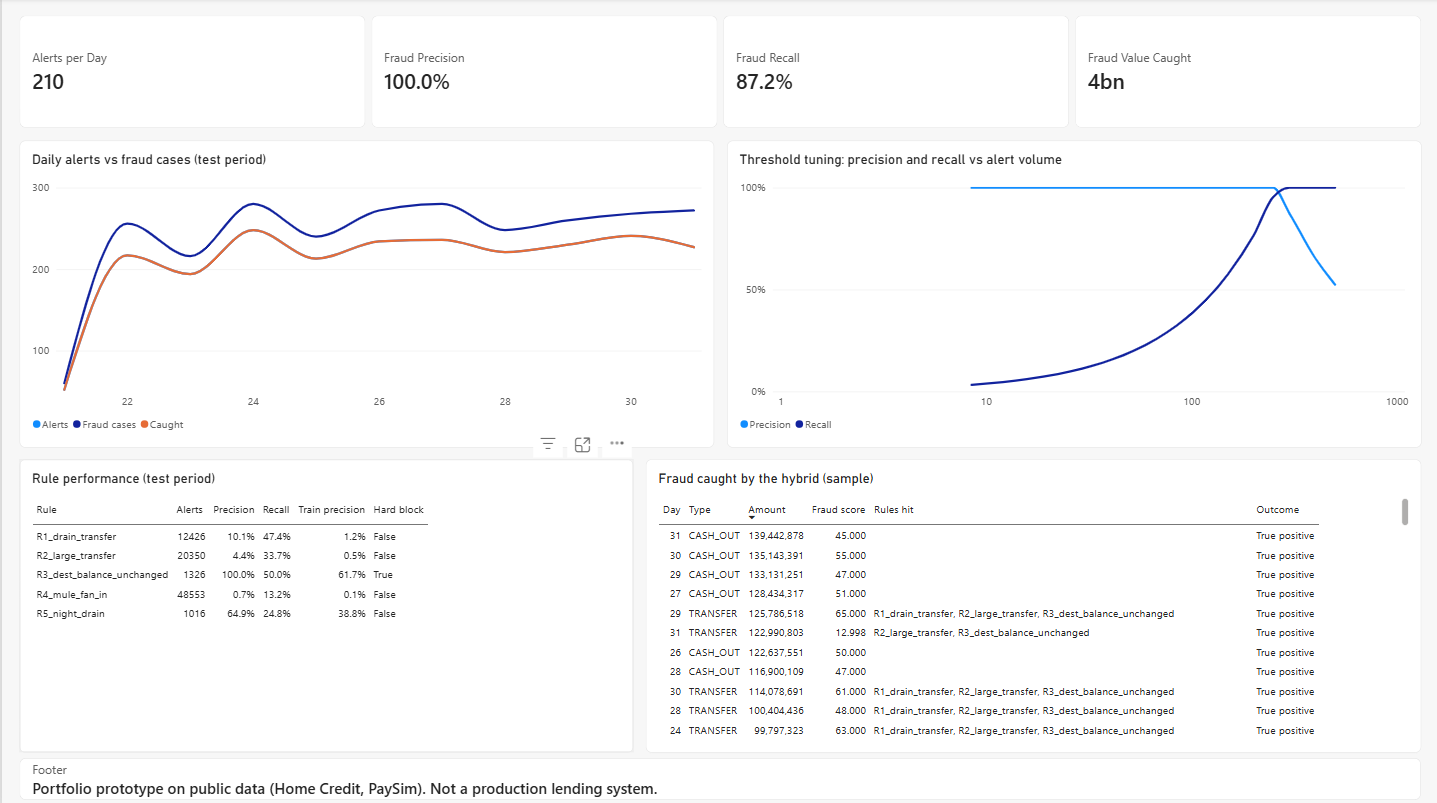

Layout of this report page (visuals, bound fields, positions):
{"tool":"powerbi","page":{"name":"Fraud operations","canvas":[1920,1080],"ordinal":4},"visuals":[{"type":"cardVisual","fields":{"Data":["_Measures.Alerts per Day","_Measures.Fraud Precision","_Measures.Fraud Recall","_Measures.Fraud Value Caught"]},"box":[24,24,1872,150],"z":0},{"type":"lineChart","title":"Daily alerts vs fraud cases (test period)","fields":{"Category":["fraud_daily.day"],"Y":["Sum(fraud_daily.alerts)","Sum(fraud_daily.fraud_cases)","Sum(fraud_daily.caught)"]},"box":[24,190,928,410],"z":1},{"type":"lineChart","title":"Threshold tuning: precision and recall vs alert volume","fields":{"Category":["fraud_thresholds.alerts_per_day"],"Y":["Sum(fraud_thresholds.precision)","Sum(fraud_thresholds.recall)"]},"box":[968,190,928,410],"z":2},{"type":"tableEx","title":"Rule performance (test period)","fields":{"Values":["fraud_rules.rule","Sum(fraud_rules.alerts)","Sum(fraud_rules.precision)","Sum(fraud_rules.recall)","Sum(fraud_rules.train_precision)","fraud_rules.hard_block"]},"box":[24,616,820,392],"z":3},{"type":"tableEx","title":"Fraud caught by the hybrid (sample)","fields":{"Values":["fraud_alerts.day","fraud_alerts.type","Sum(fraud_alerts.amount)","Sum(fraud_alerts.xgb_score)","fraud_alerts.rules_hit","fraud_alerts.outcome"]},"box":[860,616,1036,392],"z":4},{"type":"cardVisual","fields":{"Data":["_Measures.Footer"]},"box":[24,1016,1872,56],"z":5}]}

Visuals, with their boxes in screenshot pixels (x1, y1, x2, y2), scaled from the page's 1920x1080 canvas onto the 1437x803 screenshot:
cardVisual - _Measures.Alerts per Day x _Measures.Fraud Precision: BBox(18, 18, 1419, 129)
"Daily alerts vs fraud cases (test period)" lineChart: BBox(18, 141, 713, 446)
"Threshold tuning: precision and recall vs alert volume" lineChart: BBox(724, 141, 1419, 446)
"Rule performance (test period)" tableEx: BBox(18, 458, 632, 749)
"Fraud caught by the hybrid (sample)" tableEx: BBox(644, 458, 1419, 749)
cardVisual - _Measures.Footer: BBox(18, 755, 1419, 797)
